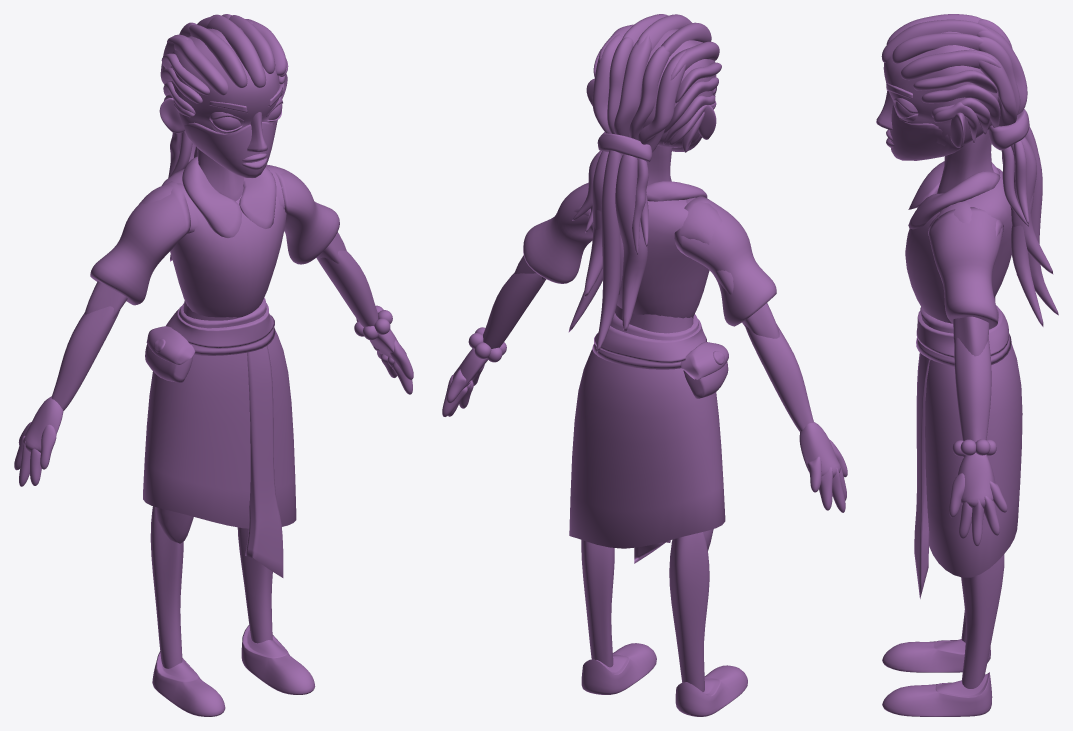
File: VrouwBlockout.fbx
3 renders of one model, left to right at view 1: azimuth 30°, elevation 25°; view 2: azimuth 150°, elevation 25°; view 3: azimuth 270°, elevation 25°, orthographic.
Parts seen in each view (by area): view 1: Female_body_blockout, Female_skirt_blockout, Female_belt_blockout, Female_hair_blockout, Female_collarshirt_blockout, Female_pouch_blockout, Female_bracelet_blockout; view 2: Female_body_blockout, Female_skirt_blockout, Female_hair_blockout, Female_belt_blockout, Female_pouch_blockout, Female_hairband_blockout, Female_collarshirt_blockout, Female_bracelet_blockout; view 3: Female_body_blockout, Female_hair_blockout, Female_skirt_blockout, Female_belt_blockout, Female_collarshirt_blockout, Female_hairband_blockout, Female_bracelet_blockout.
Part boxes in pixels (box(x1,y1,x2,y2)): Female_body_blockout: box(14, 28, 413, 716); Female_skirt_blockout: box(143, 330, 296, 528); Female_belt_blockout: box(165, 297, 283, 577); Female_hair_blockout: box(160, 14, 288, 261); Female_collarshirt_blockout: box(182, 156, 276, 237); Female_pouch_blockout: box(145, 326, 195, 382); Female_bracelet_blockout: box(354, 305, 392, 340); Female_body_blockout: box(442, 29, 847, 716); Female_skirt_blockout: box(569, 349, 725, 548); Female_hair_blockout: box(568, 14, 721, 352); Female_belt_blockout: box(592, 312, 706, 563); Female_pouch_blockout: box(680, 342, 728, 398); Female_hairband_blockout: box(597, 132, 652, 163); Female_collarshirt_blockout: box(646, 181, 707, 201); Female_bracelet_blockout: box(468, 327, 506, 362); Female_body_blockout: box(876, 31, 1011, 716); Female_hair_blockout: box(881, 14, 1058, 326); Female_skirt_blockout: box(925, 344, 1022, 577); Female_belt_blockout: box(914, 305, 1011, 598); Female_collarshirt_blockout: box(908, 161, 1000, 229); Female_hairband_blockout: box(988, 109, 1029, 150); Female_bracelet_blockout: box(952, 439, 996, 457).
Size of the model in its own units: 0.8053 by 1.3 by 0.322.
